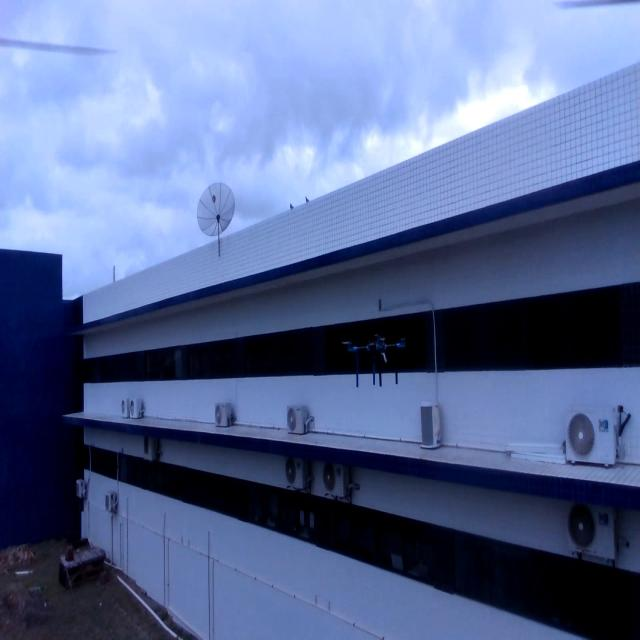-uav-: (342, 330, 413, 397)
